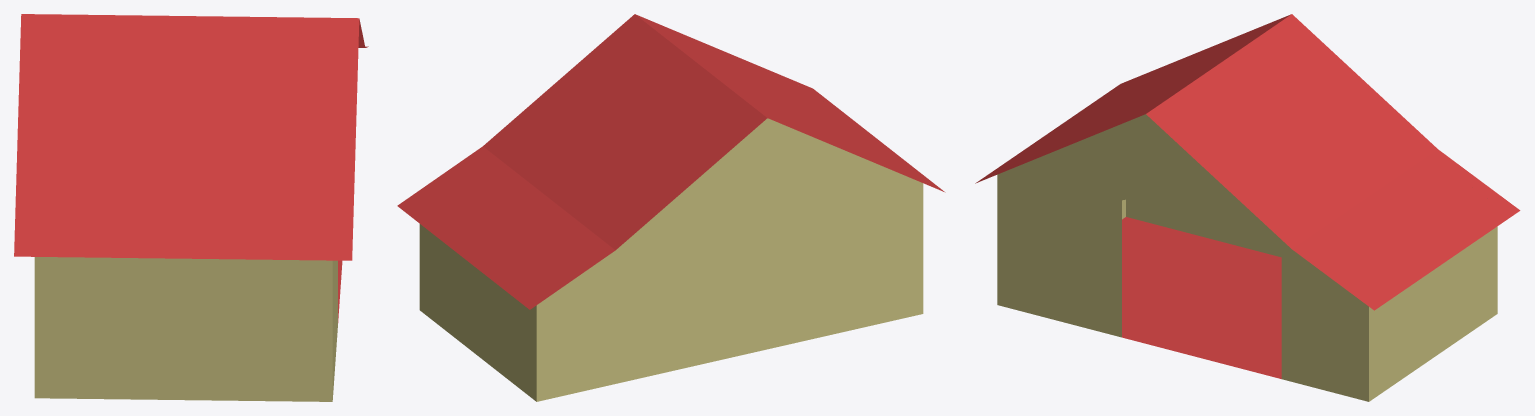
The picture shows the model from 3 angles, left to right: view 1: azimuth 30°, elevation 25°; view 2: azimuth 150°, elevation 25°; view 3: azimuth 270°, elevation 25°; orthographic projection. The views are drawn at different scales.
Bounding box in the file's own units: 29.21 × 32.98 × 15.85.
